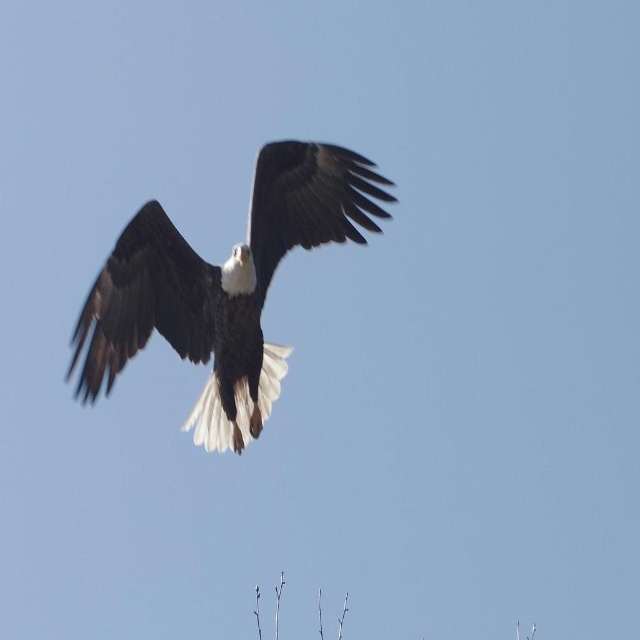Eagle: (68, 140, 397, 455)
